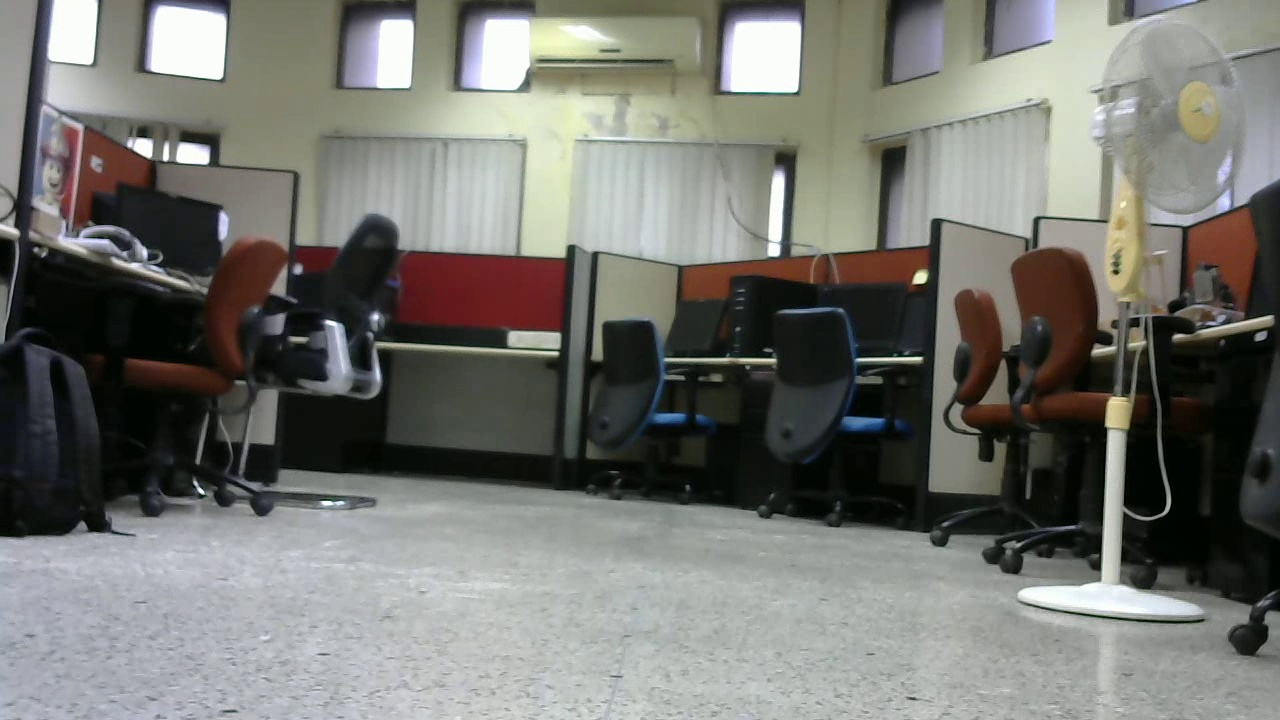chair: (996, 262, 1179, 572), (123, 232, 272, 512), (923, 286, 1074, 550), (272, 206, 400, 507), (754, 309, 912, 531), (577, 318, 725, 506)
